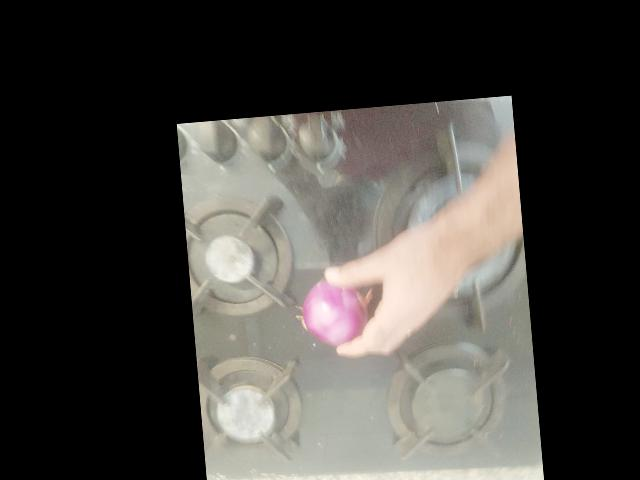onion: (304, 274, 368, 349)
